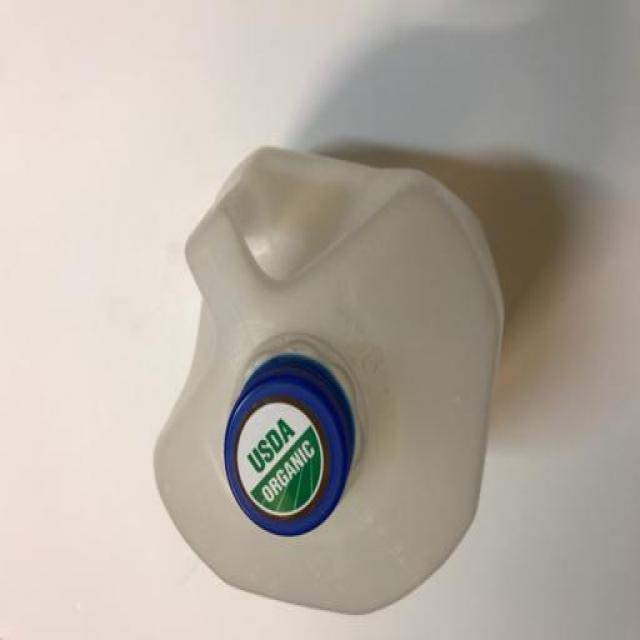plastic_bottle: (146, 108, 512, 629)
